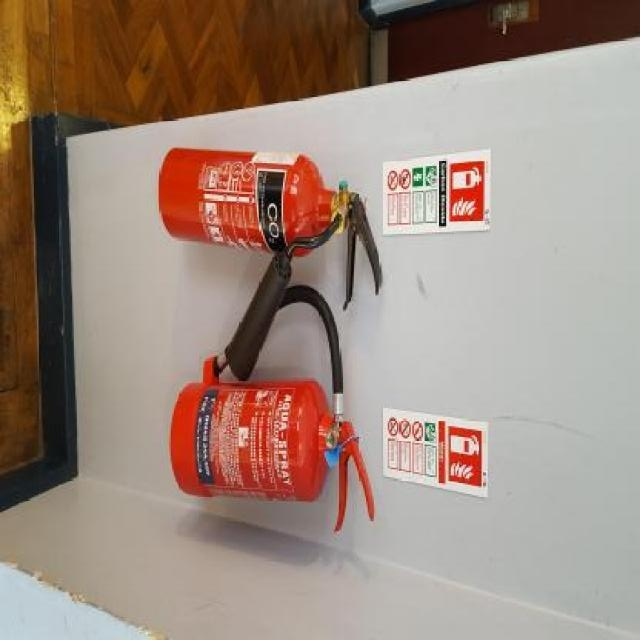fire extinguisher: (160, 145, 383, 381), (170, 285, 375, 533)
